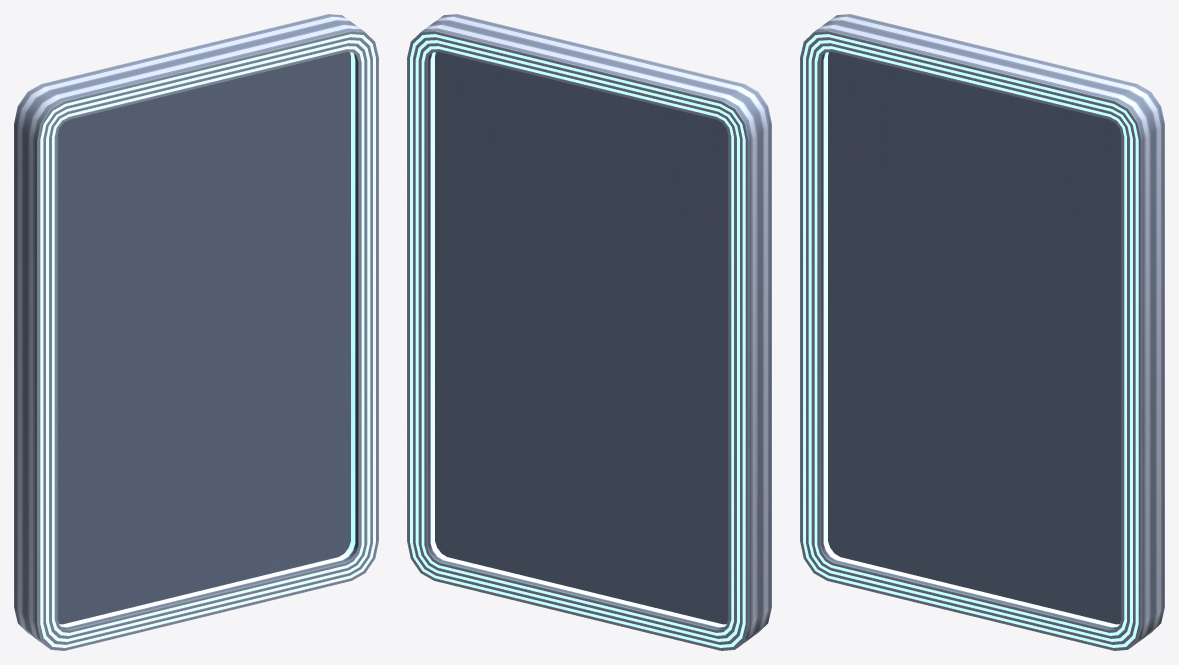
File: obj_governance04.gltf
The picture shows the model from 3 angles, left to right: view 1: azimuth 30°, elevation 25°; view 2: azimuth 150°, elevation 25°; view 3: azimuth 330°, elevation 25°; orthographic projection.
Parts seen in each view (by area): view 1: obj_governance04; view 2: obj_governance04; view 3: obj_governance04.
Part boxes in pixels (x1=…): obj_governance04: x1=14, y1=14, x2=378, y2=650; obj_governance04: x1=407, y1=14, x2=771, y2=650; obj_governance04: x1=800, y1=14, x2=1164, y2=650.
Size of what is drawn, in the model's own units: 1.41 by 2.17 by 0.1666.
Materials: 2 (1 with a texture image).
